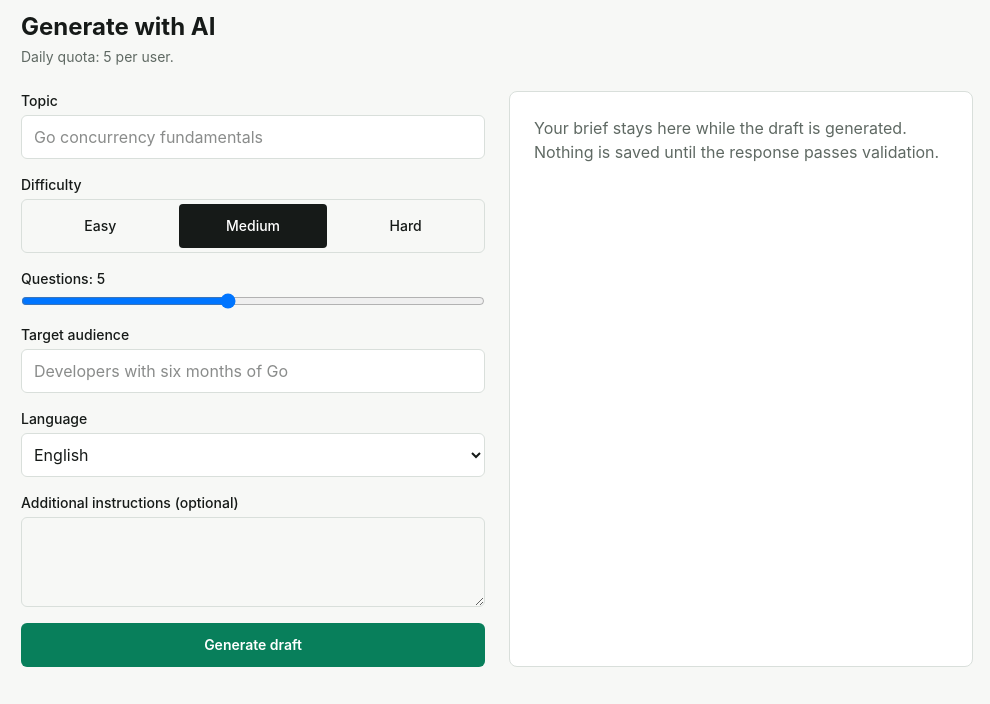
Test: generator page › rejects short topics client-side
Type "Go" into the field labelled "Topic" at (253, 137), box [21, 115, 485, 159]
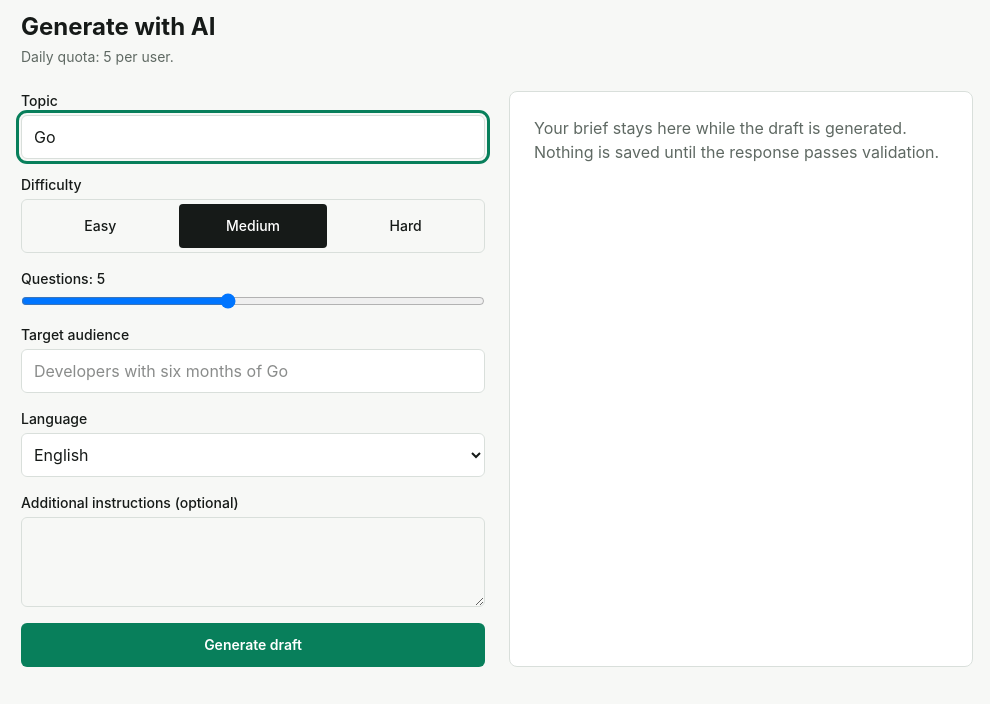
Click the button "Generate draft" at (253, 645), box [21, 623, 485, 667]
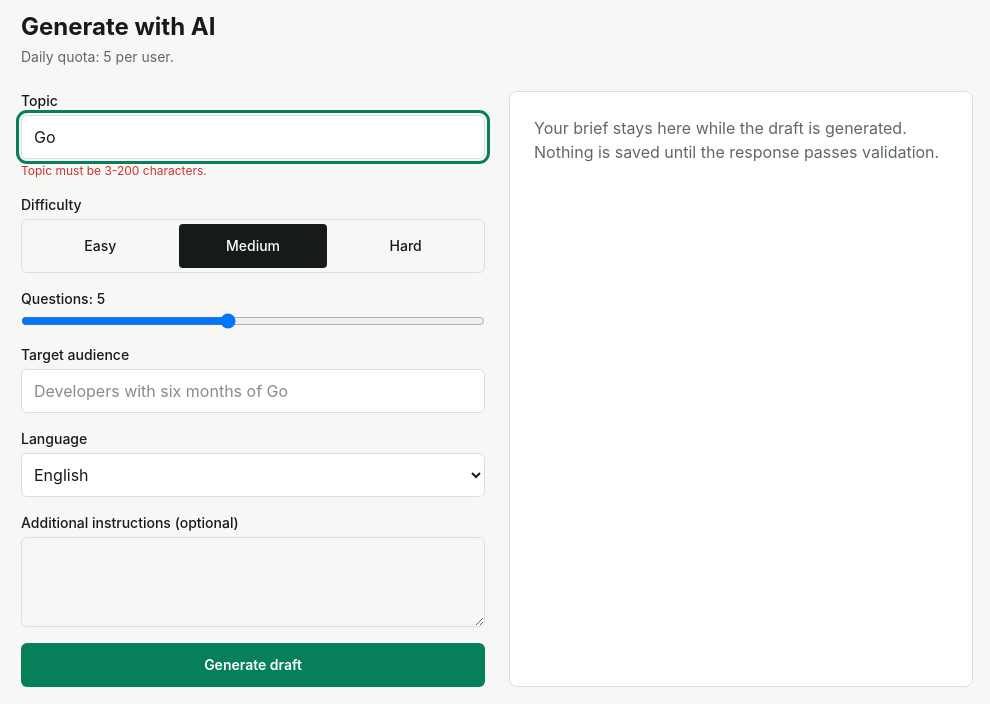
Result: the text "Topic must be 3-200 characters." is shown at [21, 163, 207, 178]
